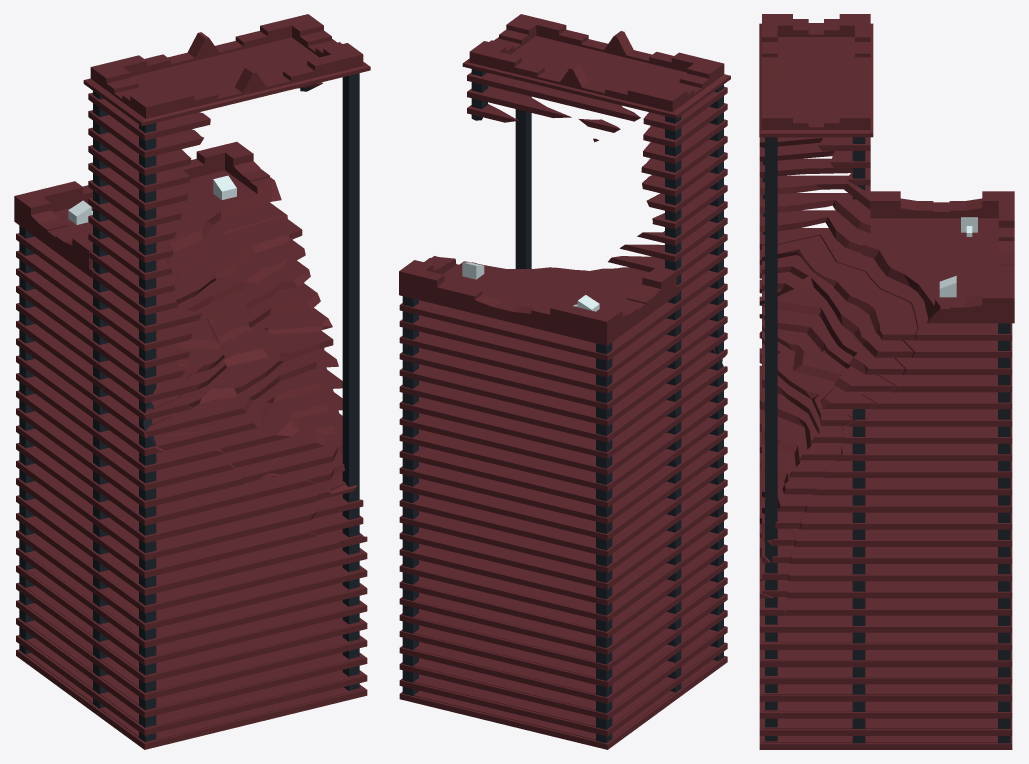
The model's file is Final-Tower-Destroyed.glb.
3 views of the same model, side by side, from view 1: azimuth 30°, elevation 25°; view 2: azimuth 150°, elevation 25°; view 3: azimuth 270°, elevation 25° (orthographic). The views are drawn at different scales.
Visible parts, largest first — view 1: Cube, Cube.008, Cube.011, Cube.001, Cube.002, cornerstone3.002, cornerstone1, cornerstone1.001, cornerstone4; view 2: Cube, Cube.008, Cube.001, Cube.002, Cube.011, cornerstone4, cornerstone1.001, cornerstone2, cornerstone1, cornerstone3.002; view 3: Cube, Cube.008, Cube.002, Cube.011, Cube.001, cornerstone3.002, cornerstone2, cornerstone3.001.
Part boxes in pixels (<box>): Cube: <box>16,202,367,749</box>; Cube.008: <box>26,217,363,742</box>; Cube.011: <box>83,14,370,126</box>; Cube.001: <box>88,82,322,315</box>; Cube.002: <box>14,141,281,278</box>; cornerstone3.002: <box>342,73,359,690</box>; cornerstone1: <box>139,123,156,742</box>; cornerstone1.001: <box>93,91,109,708</box>; cornerstone4: <box>19,225,34,654</box>; Cube: <box>399,267,727,749</box>; Cube.008: <box>413,261,724,740</box>; Cube.001: <box>467,72,727,290</box>; Cube.002: <box>399,256,679,345</box>; Cube.011: <box>462,14,730,118</box>; cornerstone4: <box>596,342,612,743</box>; cornerstone1.001: <box>665,116,681,692</box>; cornerstone2: <box>402,296,418,695</box>; cornerstone1: <box>708,84,723,661</box>; cornerstone3.002: <box>515,96,531,268</box>; Cube: <box>759,228,1012,749</box>; Cube.008: <box>762,235,997,742</box>; Cube.002: <box>862,191,1014,323</box>; Cube.011: <box>759,14,873,137</box>; Cube.001: <box>759,137,870,256</box>; cornerstone3.002: <box>765,137,777,741</box>; cornerstone2: <box>998,323,1010,743</box>; cornerstone3.001: <box>852,137,865,743</box>.
Size of the model in its own units: 20.57 by 55.71 by 20.22.
